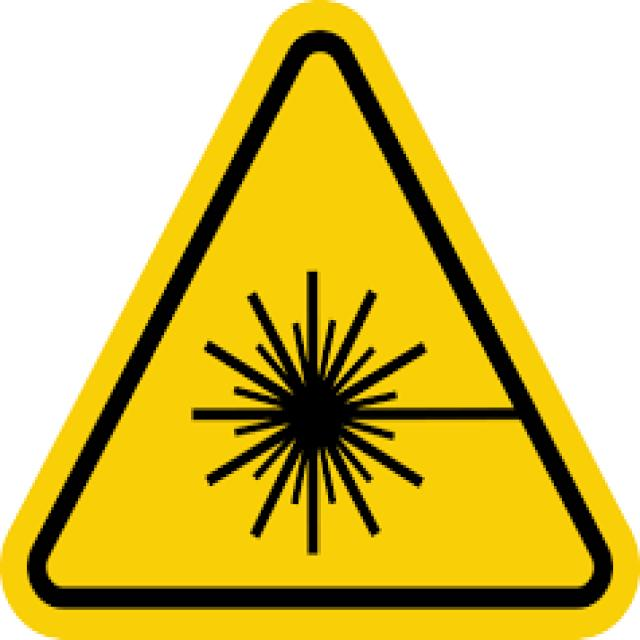laser-beam: (16, 23, 630, 620)
